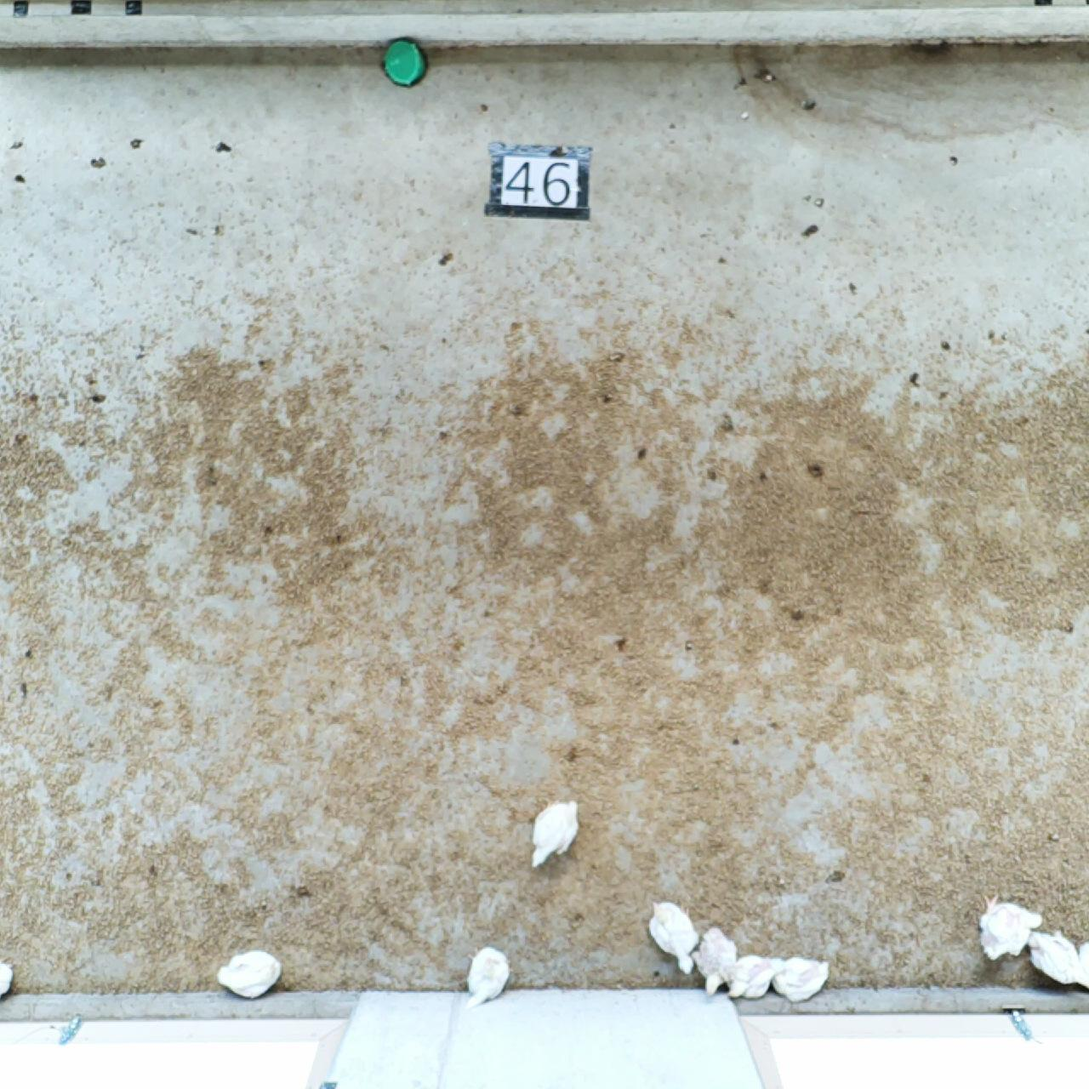chicken: (978, 901, 1042, 961), (650, 904, 696, 977), (219, 949, 282, 1001), (531, 804, 579, 871), (1031, 929, 1081, 989), (466, 949, 509, 1007), (697, 930, 734, 994), (774, 960, 830, 1001), (735, 955, 782, 1001), (0, 961, 16, 996)
